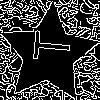T: (23, 28, 71, 63)
